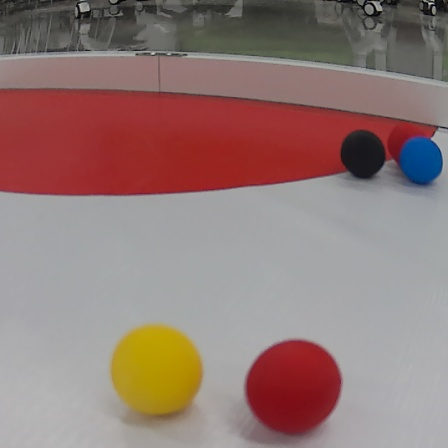black: (338, 128, 386, 180)
blue: (402, 136, 444, 182)
red: (243, 338, 343, 436), (391, 117, 424, 158)
red_base: (1, 76, 441, 202)
yellow: (109, 322, 205, 418)
